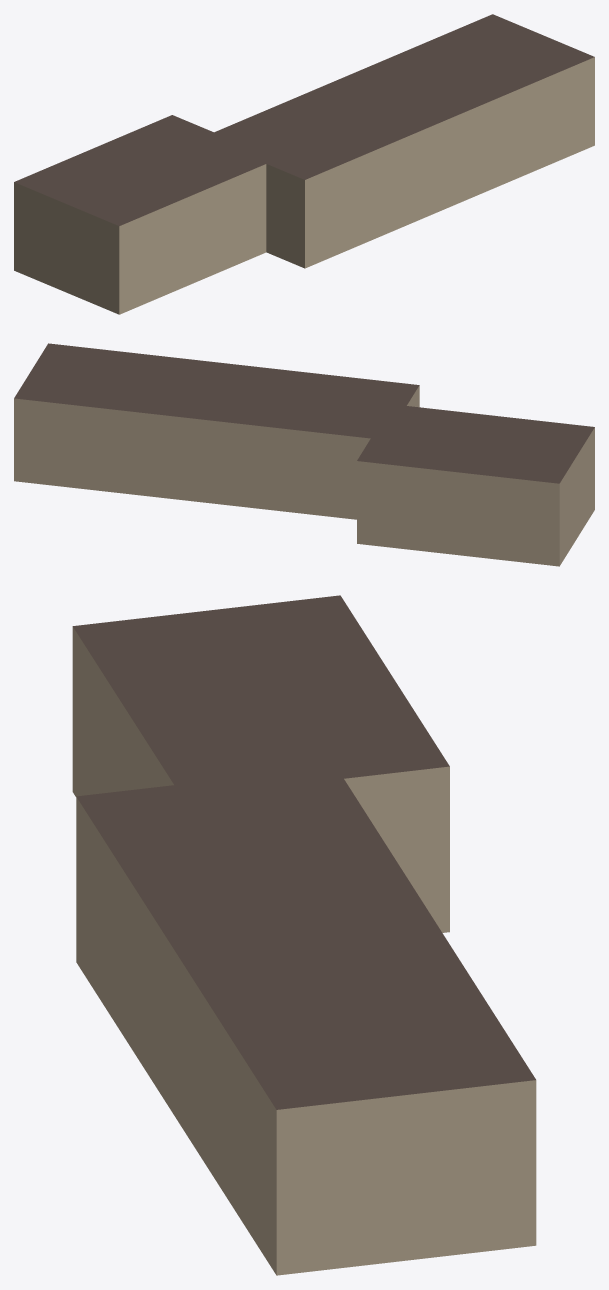
3 renders of one model, top to bottom at view 1: azimuth 30°, elevation 25°; view 2: azimuth 150°, elevation 25°; view 3: azimuth 270°, elevation 25°, orthographic. The views are drawn at different scales.
Visible parts, largest first — view 1: HP-w299011347; view 2: HP-w299011347; view 3: HP-w299011347.
Part boxes in pixels (x1,y1,x2,y2): HP-w299011347: (14, 14, 594, 314); HP-w299011347: (14, 343, 594, 566); HP-w299011347: (72, 595, 536, 1275).
Bounding box in the file's own units: 59.96 × 9 × 22.84.
